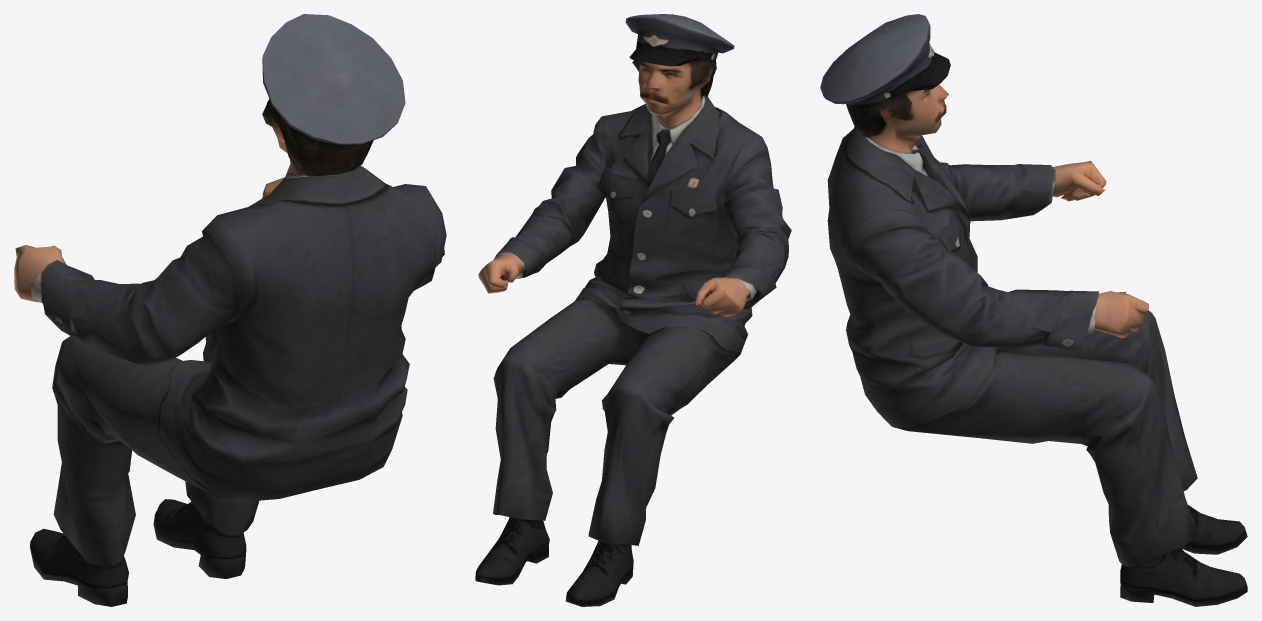
The model's file is driver.glb.
The picture shows the model from 3 angles, left to right: view 1: azimuth 30°, elevation 25°; view 2: azimuth 150°, elevation 25°; view 3: azimuth 270°, elevation 25°; orthographic projection. The views are drawn at different scales.
Parts seen in each view (by area): view 1: Body; view 2: Body; view 3: Body.
Boxes of the visible parts, box(x1,y1,x2,y2) form: Body: box(14, 14, 446, 606); Body: box(475, 14, 791, 606); Body: box(820, 14, 1247, 606).
Size of the model in its own units: 0.7562 by 1.38 by 0.9636.
1 material, 1 textured.
